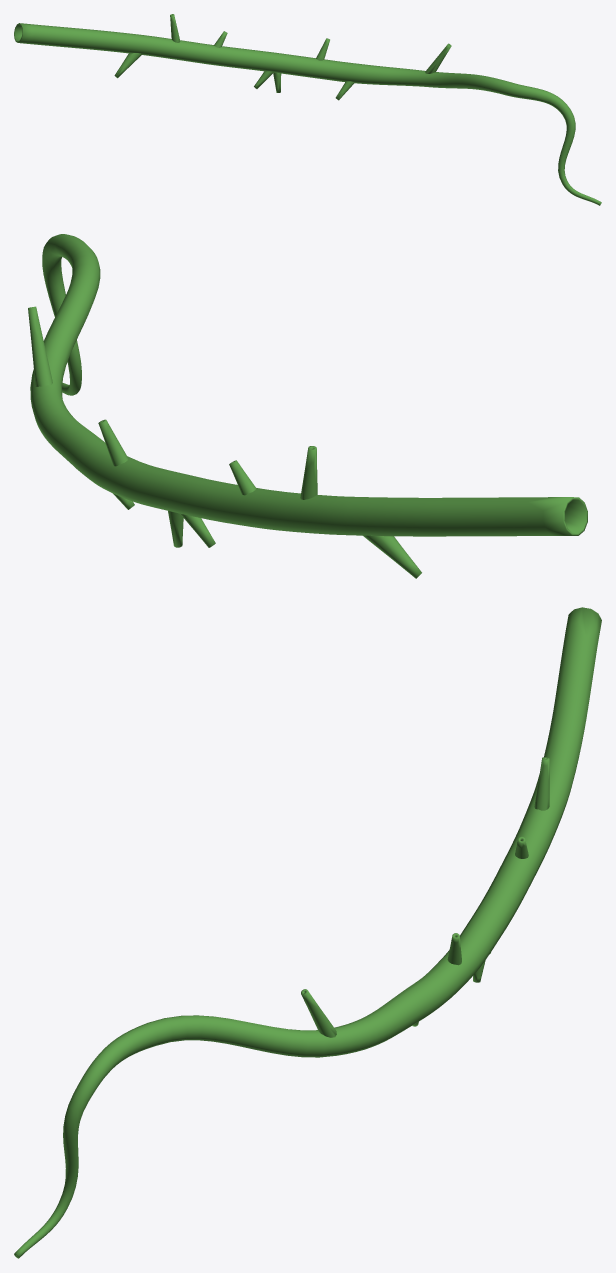
The model's file is visceras-accessory-pancreatic-duct.glb.
The picture shows the model from 3 angles, top to bottom: view 1: azimuth 30°, elevation 25°; view 2: azimuth 150°, elevation 25°; view 3: azimuth 270°, elevation 25°; orthographic projection. The views are drawn at different scales.
Parts seen in each view (by area): view 1: Accessory pancreatic duct; view 2: Accessory pancreatic duct; view 3: Accessory pancreatic duct.
Boxes of the visible parts, x1,y1,x2,y2 form: Accessory pancreatic duct: (14, 14, 601, 205); Accessory pancreatic duct: (28, 234, 587, 578); Accessory pancreatic duct: (14, 607, 601, 1258).
Bounding box in the file's own units: 0.0344 × 0.0128 × 0.0234.
